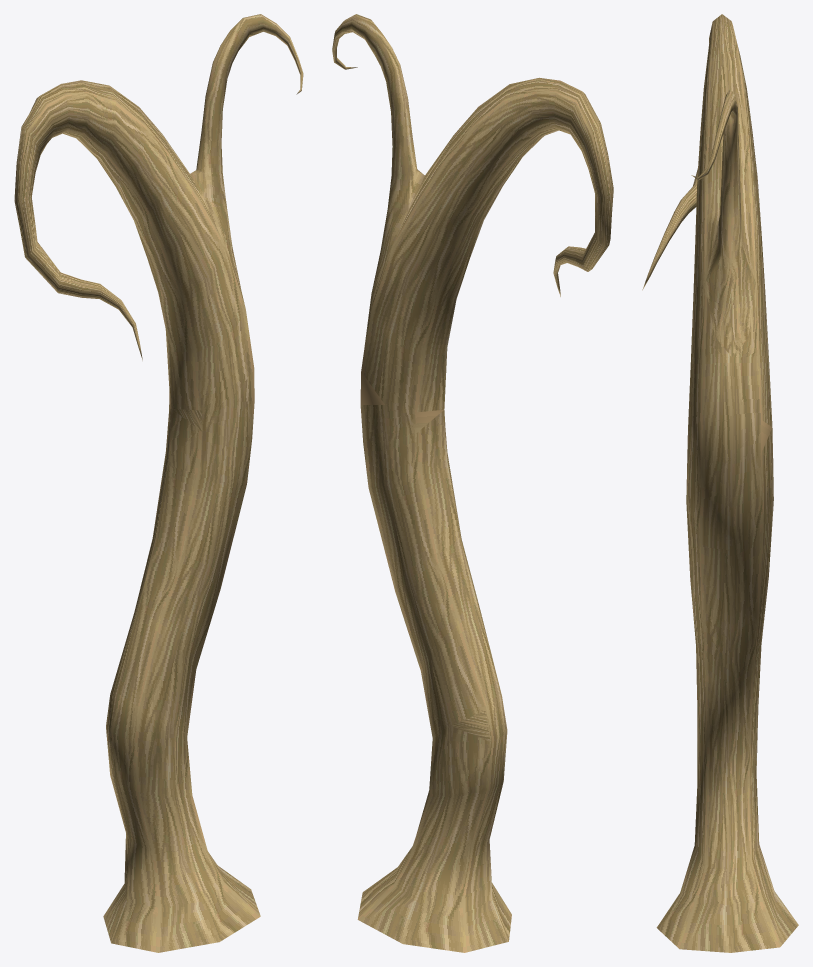
File: EKH_BARRELROOM_PS_JA1_TREE04.fbx
3 views of the same model, side by side, from view 1: azimuth 30°, elevation 25°; view 2: azimuth 150°, elevation 25°; view 3: azimuth 270°, elevation 25° (orthographic).
Parts seen in each view (by area): view 1: EKH_BARRELROOM_PS_JA1_TREE04; view 2: EKH_BARRELROOM_PS_JA1_TREE04; view 3: EKH_BARRELROOM_PS_JA1_TREE04.
Boxes of the visible parts, box(x1,y1,x2,y2) form: EKH_BARRELROOM_PS_JA1_TREE04: box(14, 14, 303, 952); EKH_BARRELROOM_PS_JA1_TREE04: box(332, 14, 613, 952); EKH_BARRELROOM_PS_JA1_TREE04: box(642, 14, 798, 952).
Size of the model in its own units: 24105 by 72381 by 11741.
Materials: 1 (1 with a texture image).
